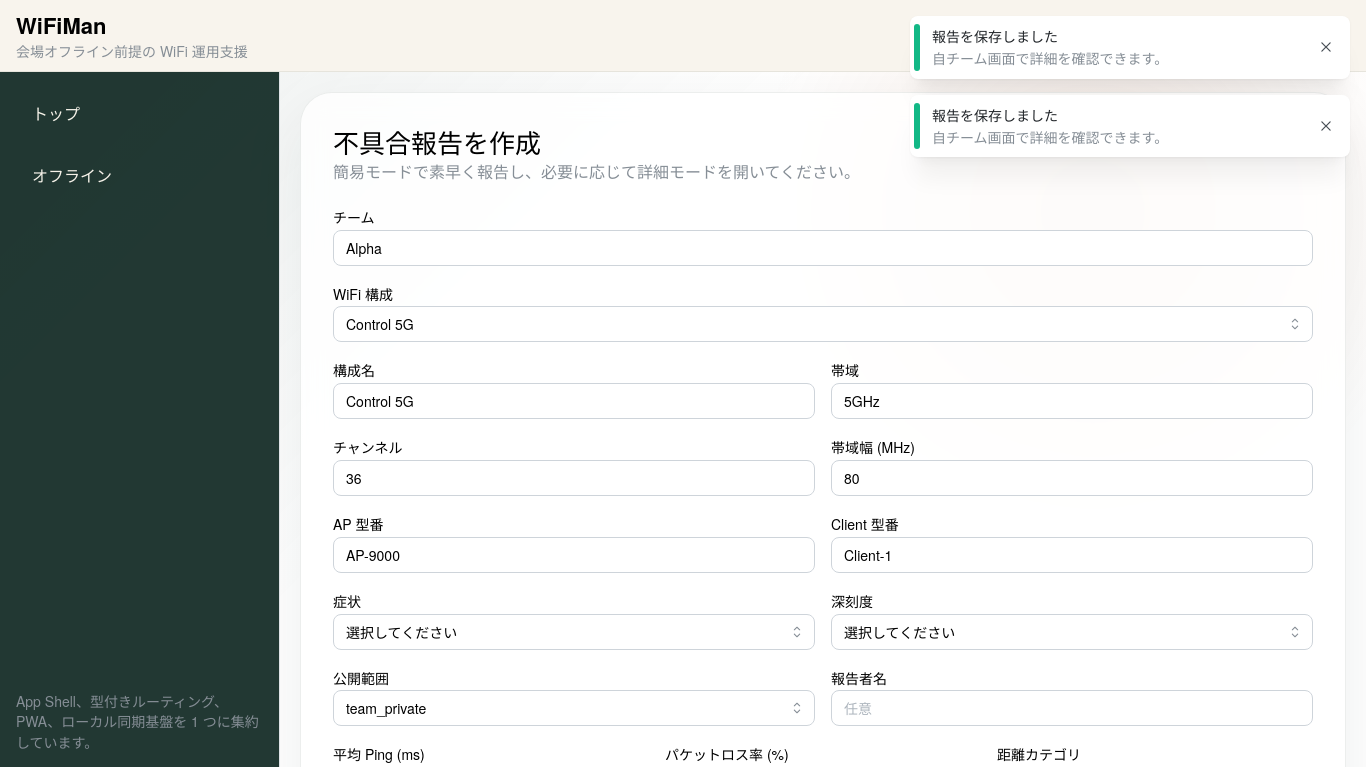
Scenario: team management routes › 不具合報告フォームは API 400 応答でも画面を維持してエラーを表示する
Expected: the heading "不具合報告を作成" is shown, top-left (333, 124), bottom-right (541, 161)
Select "high_latency" in the dropdown labelled "症状" at point(574, 632), box top-left (333, 614), bottom-right (815, 650)
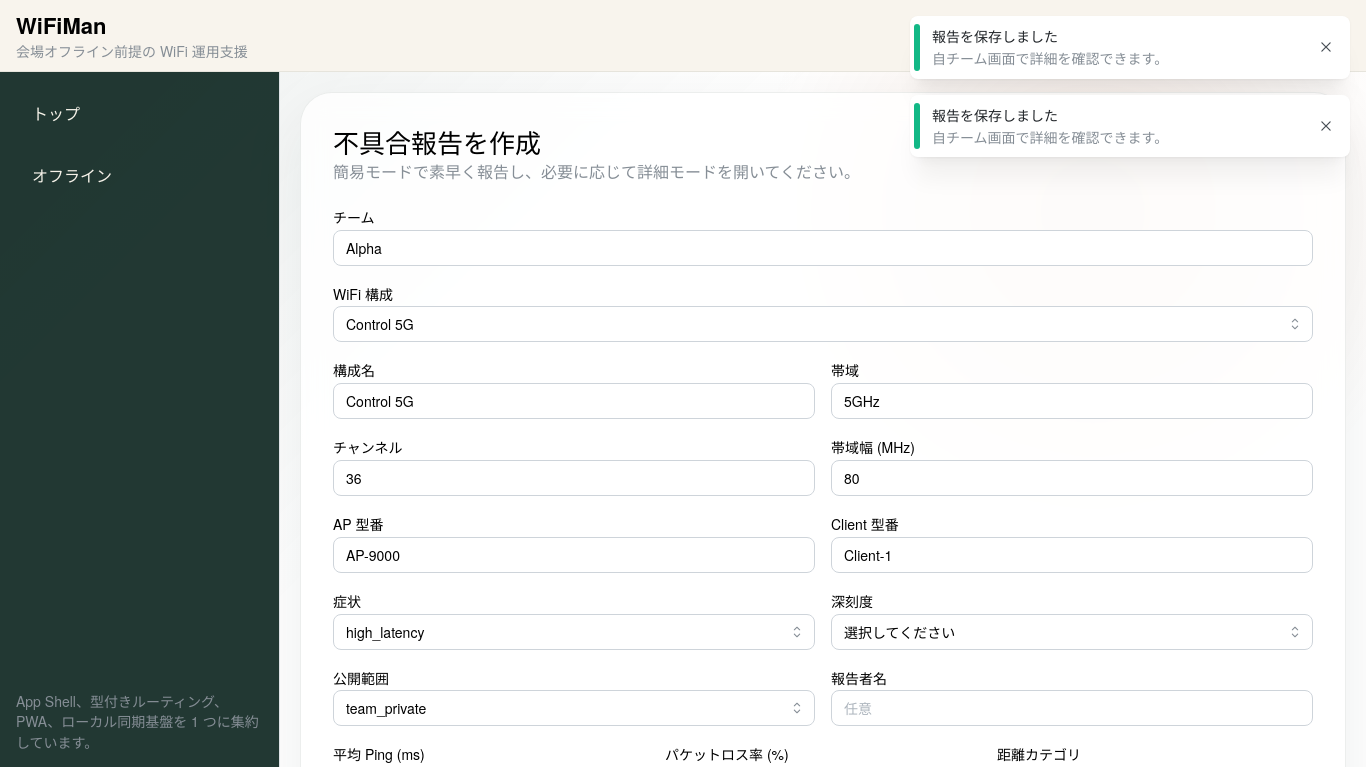
Select "high" in the dropdown labelled "深刻度" at point(1072, 632), box top-left (831, 614), bottom-right (1313, 650)
(page scrolled)
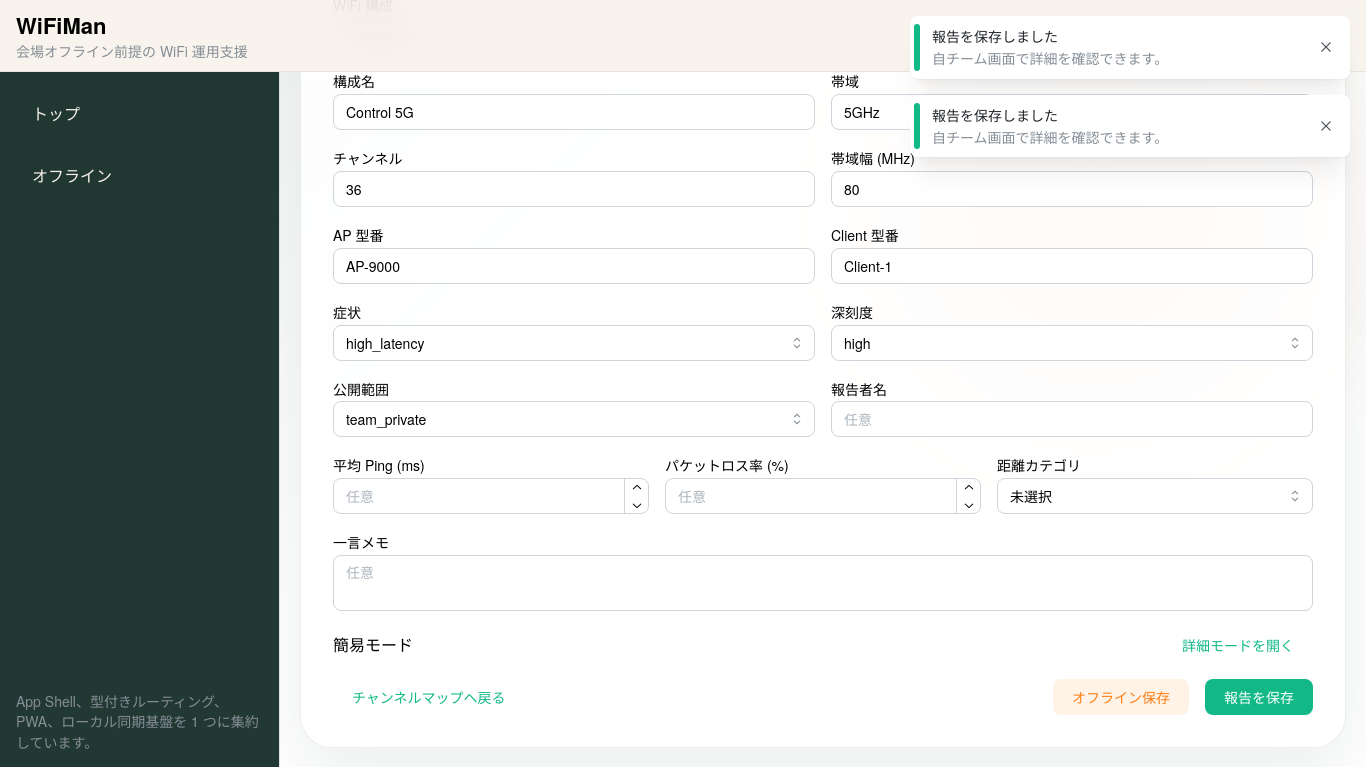
Click the button "報告を保存".
click(1259, 697)  # box top-left (1205, 679), bottom-right (1313, 715)
(page scrolled)
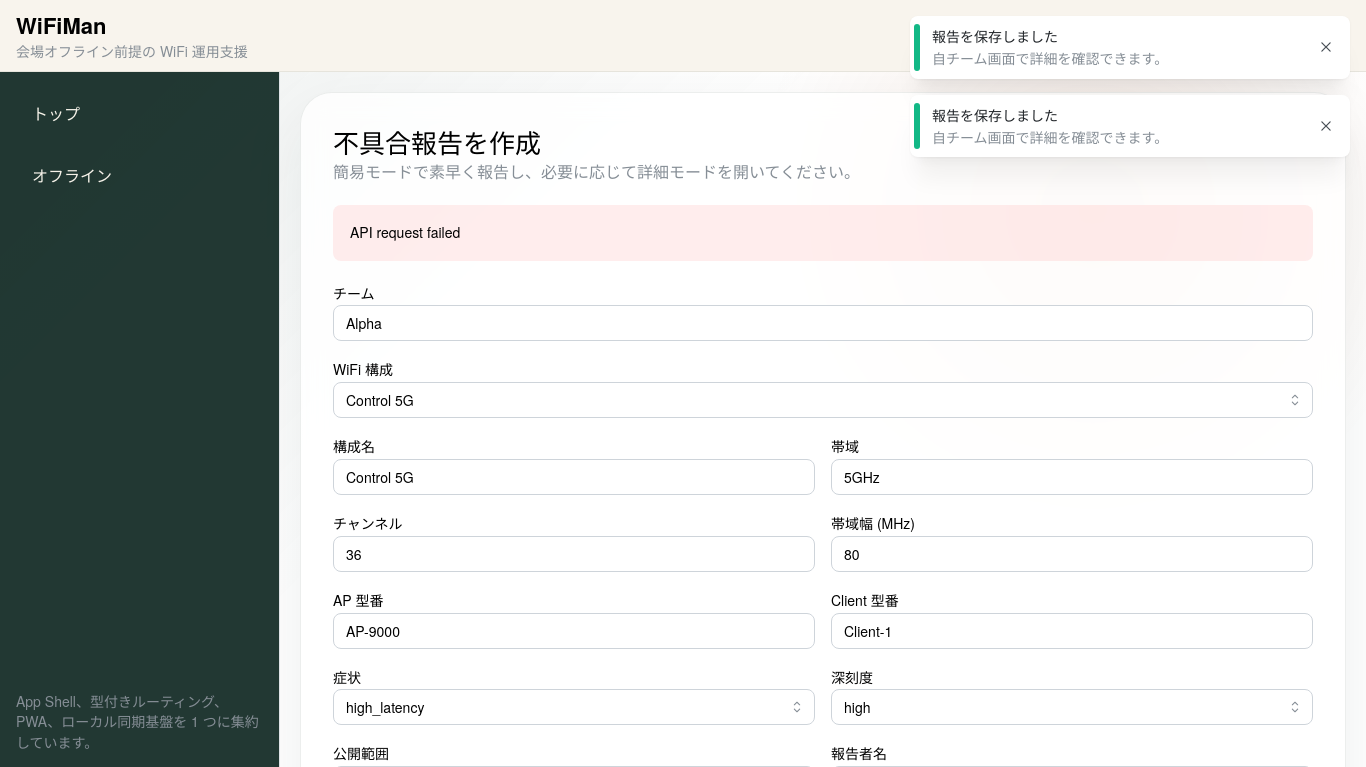
Expected: the heading "不具合報告を作成" is shown, top-left (333, 124), bottom-right (541, 161)
Result: the text "API request failed" is shown at top-left (350, 222), bottom-right (460, 242)
